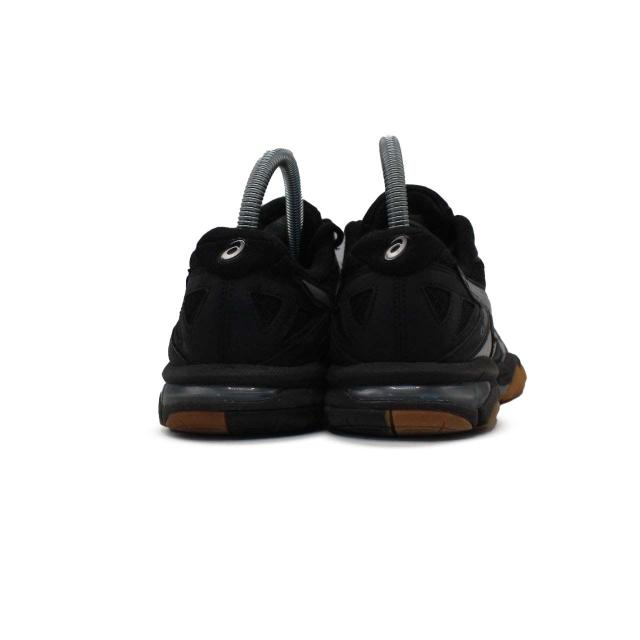heel: (335, 201, 498, 367), (168, 223, 314, 378)
midsole: (328, 364, 534, 439), (159, 371, 323, 441)
